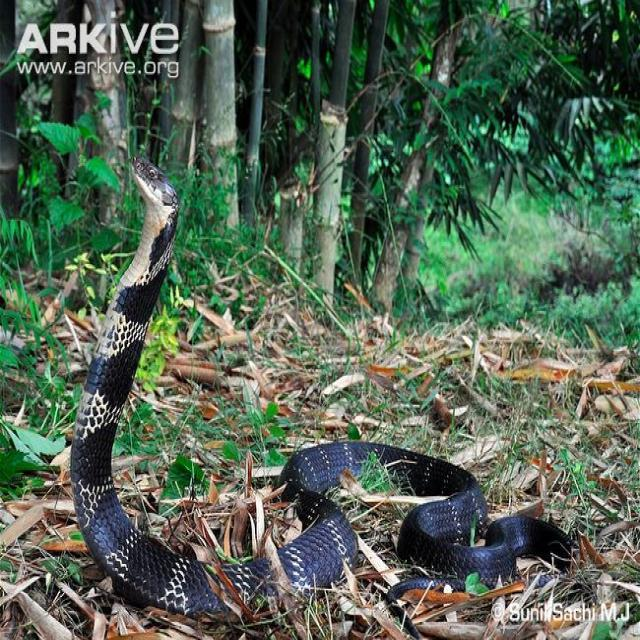Snake: (65, 147, 588, 616)
